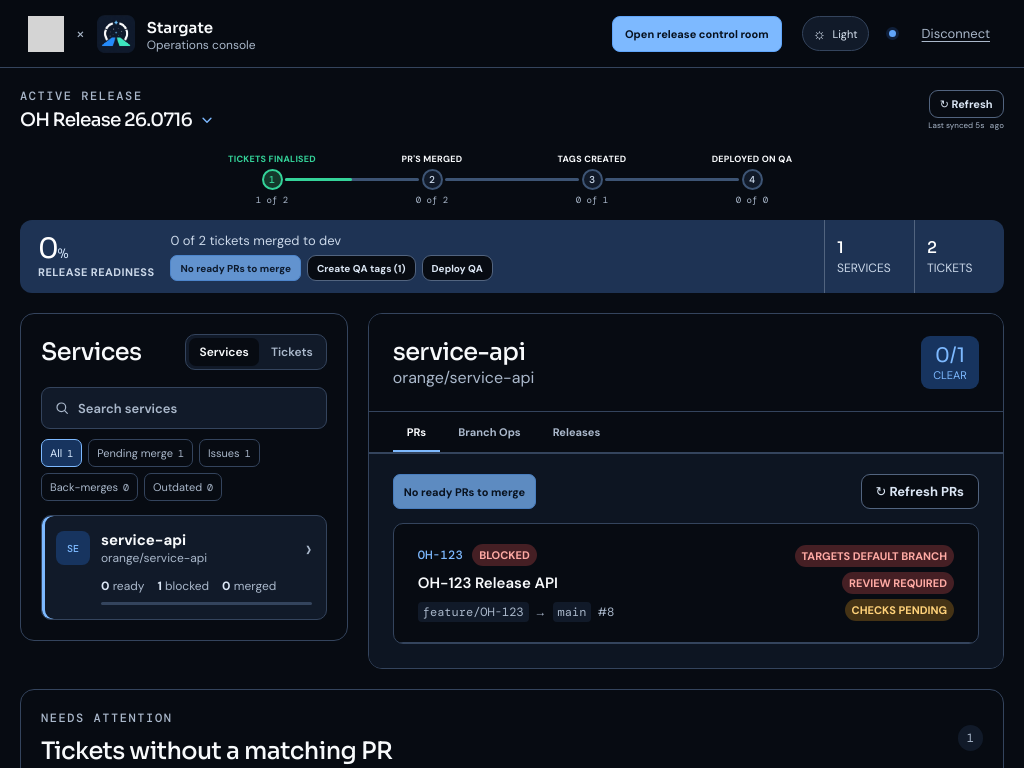
ReleaseOverview › opens bulk QA tag creation for all release services
The image size is (1024, 768).
Click the button with aria-label "Create QA tags for all services in this release" at (361, 268), box [307,255,416,281]
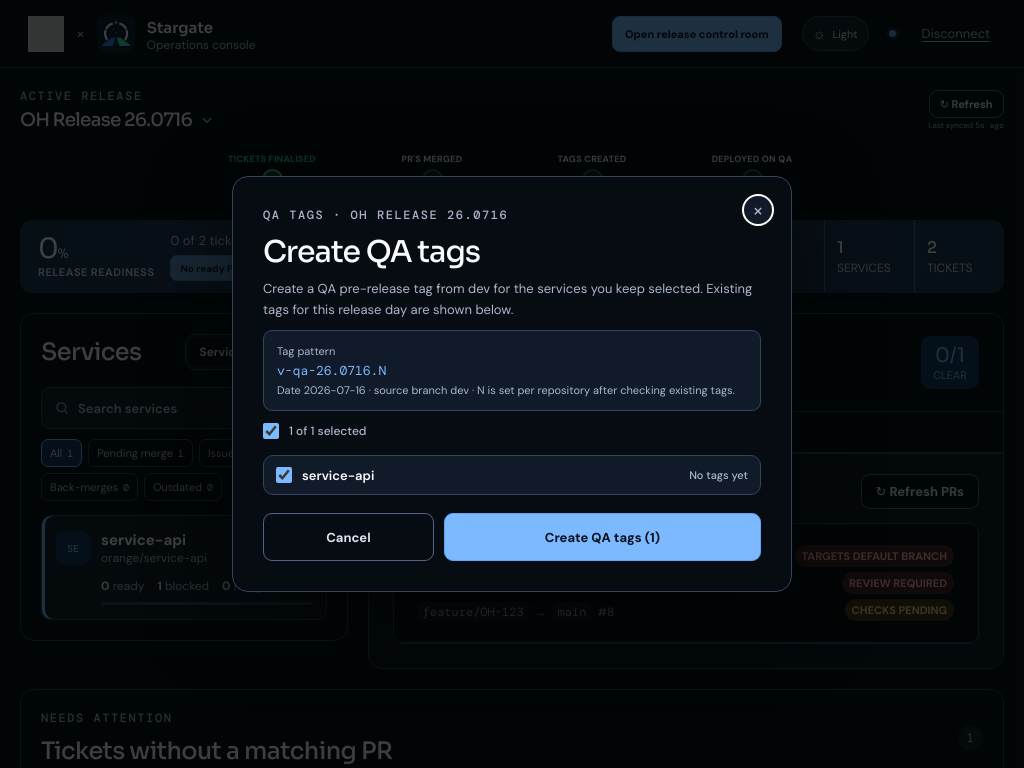
Result: the heading "Create QA tags" is shown at [263,233,480,271]
Result: the text "v-qa-26.0716.N" is shown at [277,362,386,379]
Result: the list named "Services" shows "service-api" at [302,467,374,484]
